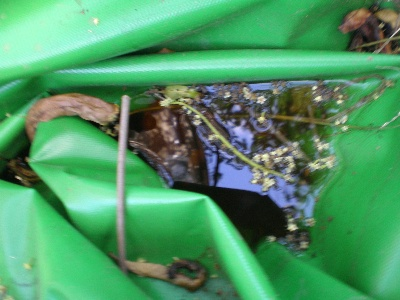plastic_bag: (1, 2, 400, 299)
